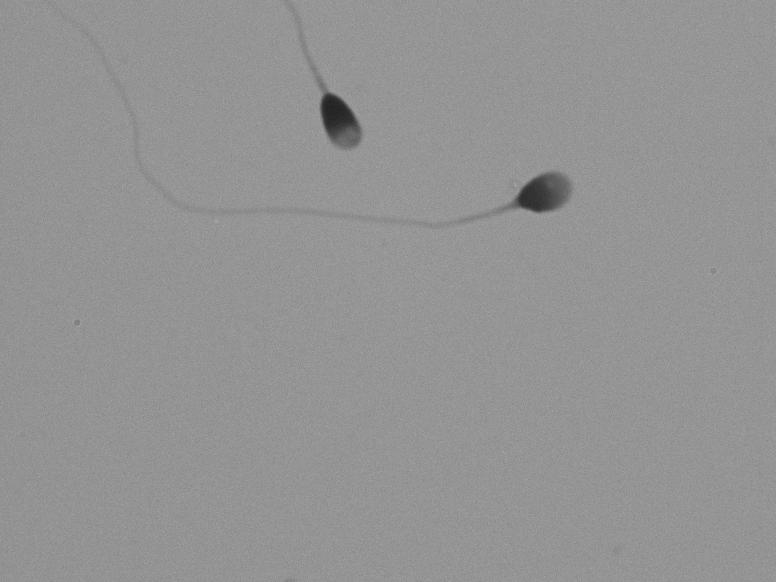Abnormal: (252, 15, 434, 178)
Normal: (45, 153, 635, 318)
